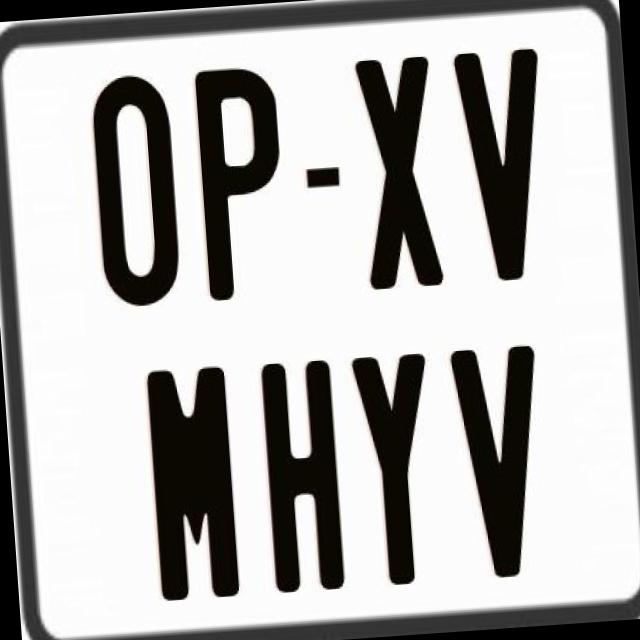0: (88, 70, 182, 310)
H: (259, 360, 346, 598)
M: (144, 362, 243, 598)
P: (190, 64, 288, 304)
V: (450, 341, 556, 584), (448, 48, 548, 290)
X: (351, 54, 442, 298)
Y: (349, 349, 447, 591)
